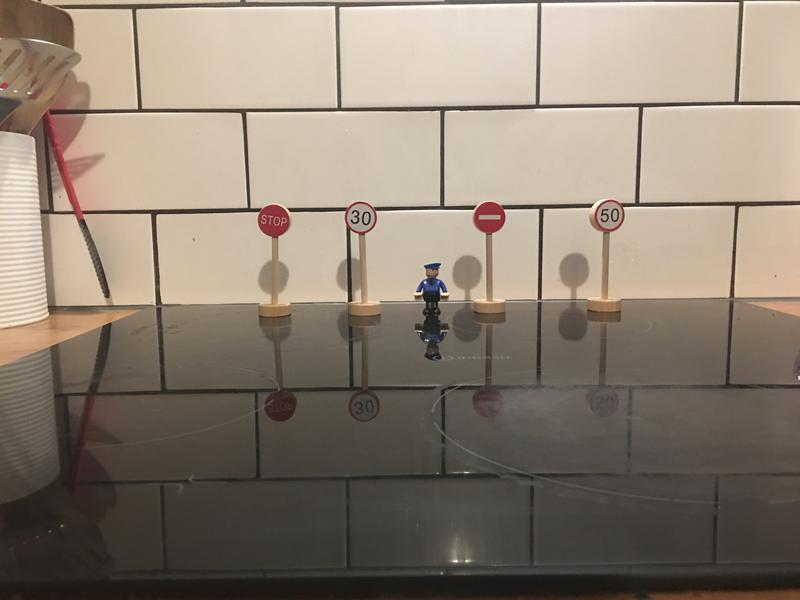Traffic_Sign_30: (346, 201, 376, 234)
Traffic_Sign_50: (595, 199, 625, 230)
Traffic_Sign_No_Entry: (474, 200, 505, 235)
Traffic_Sign_Stop: (258, 206, 290, 237)
person: (413, 261, 450, 316)
